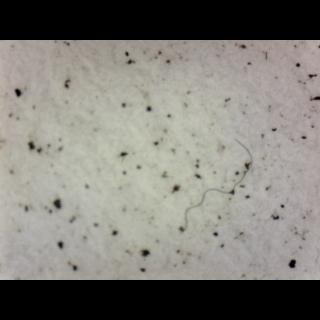Microplastic: (176, 140, 256, 230)
